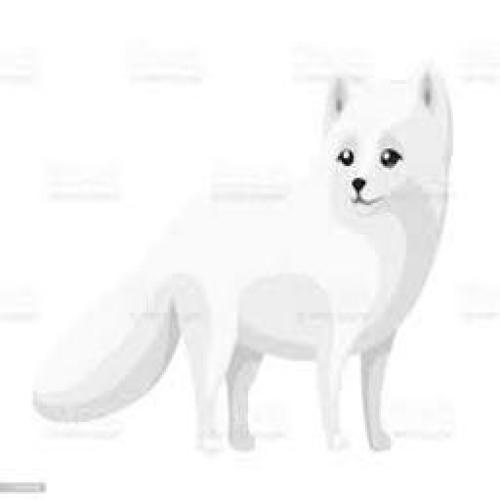arctic_fox-endangered: (41, 69, 456, 452)
